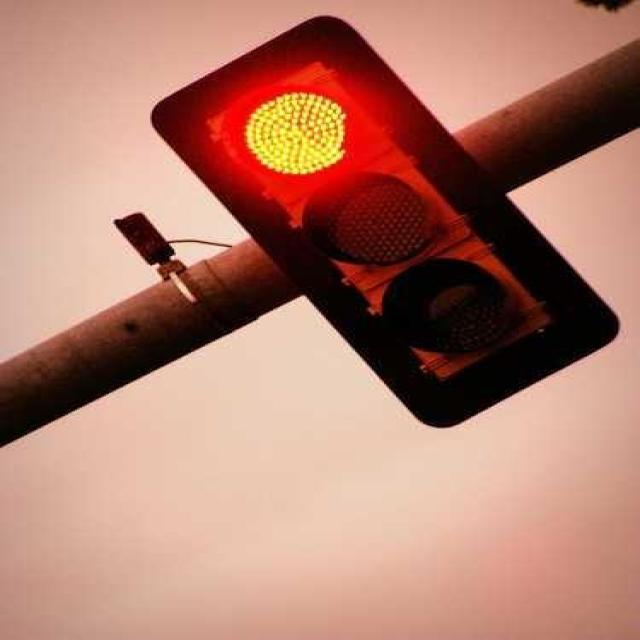Traffic Light -Red-: (196, 0, 567, 458)
